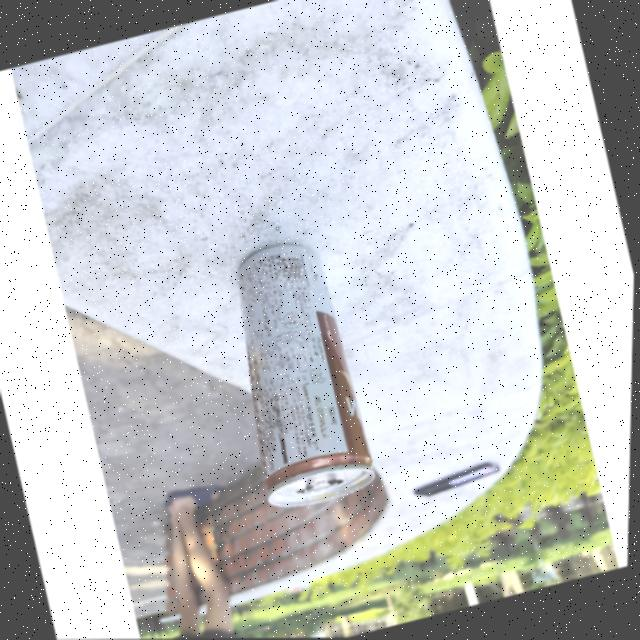Nescafe Classic Iced Latte: (192, 226, 392, 518)
